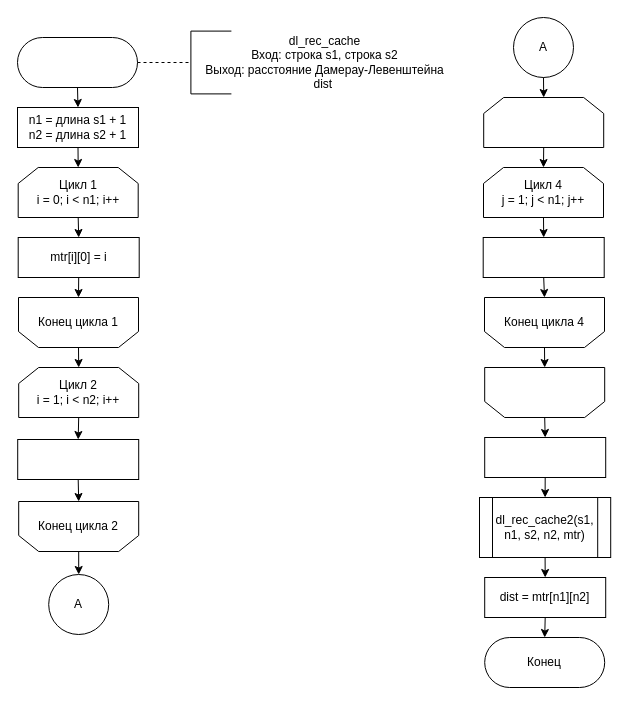
Some shapes in this 629 by 705 pixel diagram are drawn without their labels. The box of each missing label's shape, as (x1, y1, x2, y2) in pixels:
mtr[0][i] = i: (17, 438, 139, 480)
mtr[i][j] = -1: (482, 236, 604, 278)
n1--; n2--;: (484, 436, 606, 478)
Конец цикла 3: (484, 366, 605, 418)
Начало: (16, 36, 138, 88)
Цикл 3 i = 1; i < n1; i++: (483, 96, 604, 148)
